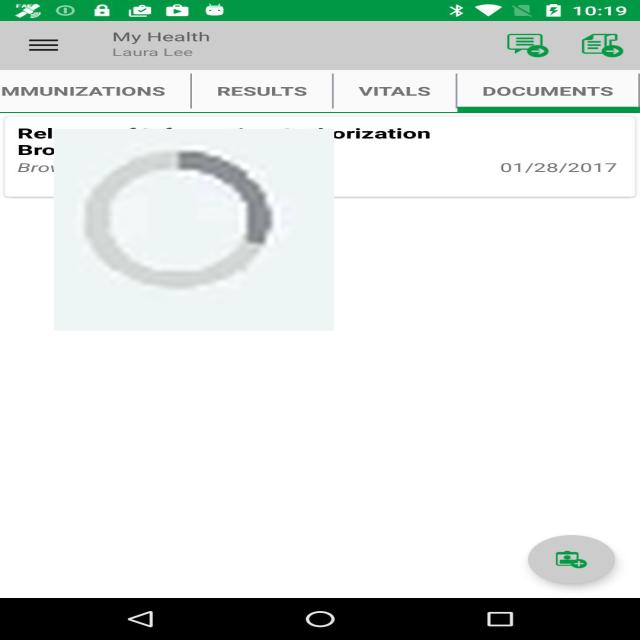misdirection: (54, 128, 334, 330)
